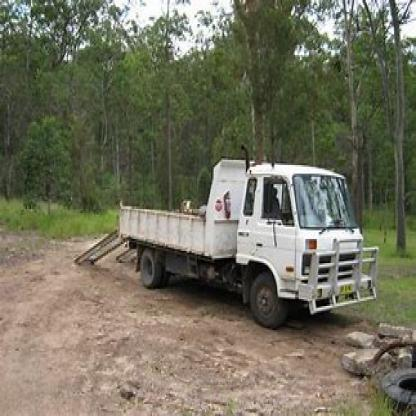dump_truck: (112, 115, 386, 346)
